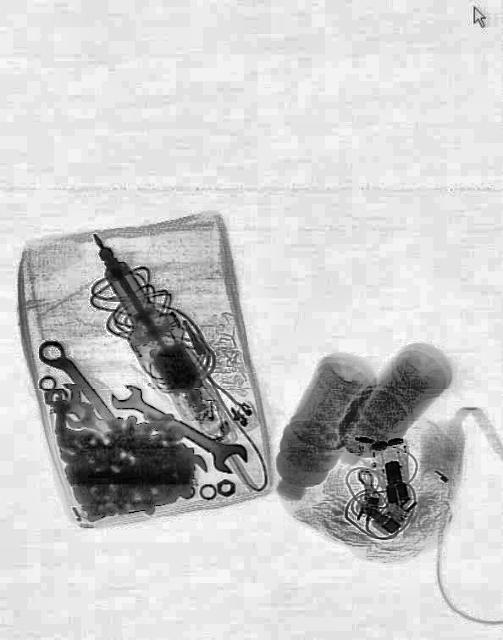Wrench: (104, 374, 250, 480), (36, 332, 118, 430), (50, 378, 106, 434), (66, 396, 113, 444)
